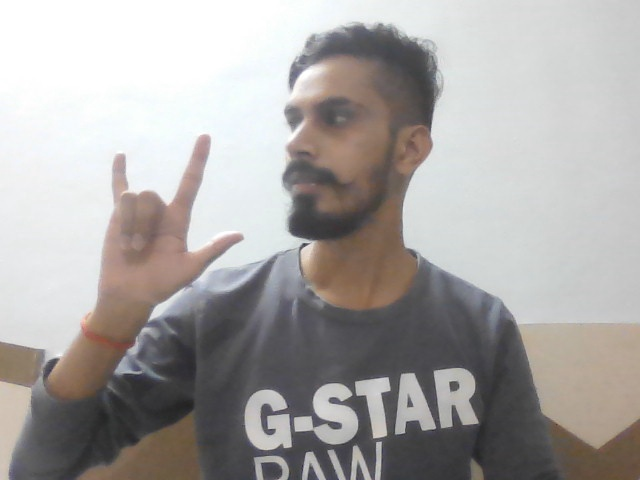ILoveYou: (99, 125, 244, 327)
